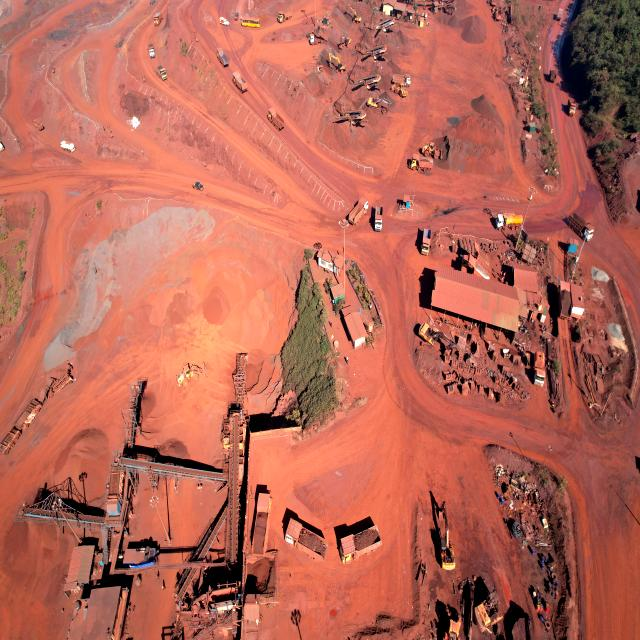Dumper truck: (334, 522, 382, 563), (284, 518, 331, 559), (418, 320, 455, 356), (254, 491, 274, 554), (568, 214, 595, 242), (469, 241, 489, 278), (352, 197, 368, 220), (310, 29, 328, 46), (270, 108, 284, 128), (233, 72, 247, 91), (461, 254, 476, 271), (422, 227, 431, 254), (216, 47, 228, 65), (374, 207, 383, 230), (277, 9, 292, 22), (409, 159, 426, 170), (157, 64, 167, 80), (393, 74, 410, 83), (549, 66, 556, 81), (408, 159, 418, 169), (569, 100, 575, 115), (557, 7, 563, 22), (153, 14, 161, 25), (266, 110, 273, 121), (33, 120, 41, 129), (148, 46, 154, 57)
Excavator: (474, 578, 504, 635), (440, 502, 456, 569), (444, 611, 462, 640), (365, 97, 391, 113), (329, 52, 346, 72), (344, 4, 361, 24), (339, 35, 352, 51)
car: (193, 182, 203, 190), (233, 12, 239, 20), (219, 17, 225, 24)
person: (346, 357, 349, 366), (428, 22, 429, 26), (427, 22, 428, 26)
